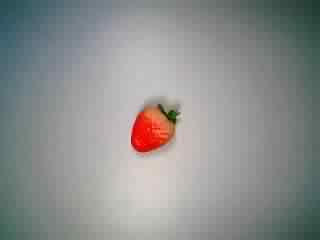strawberry: (119, 92, 187, 156)
